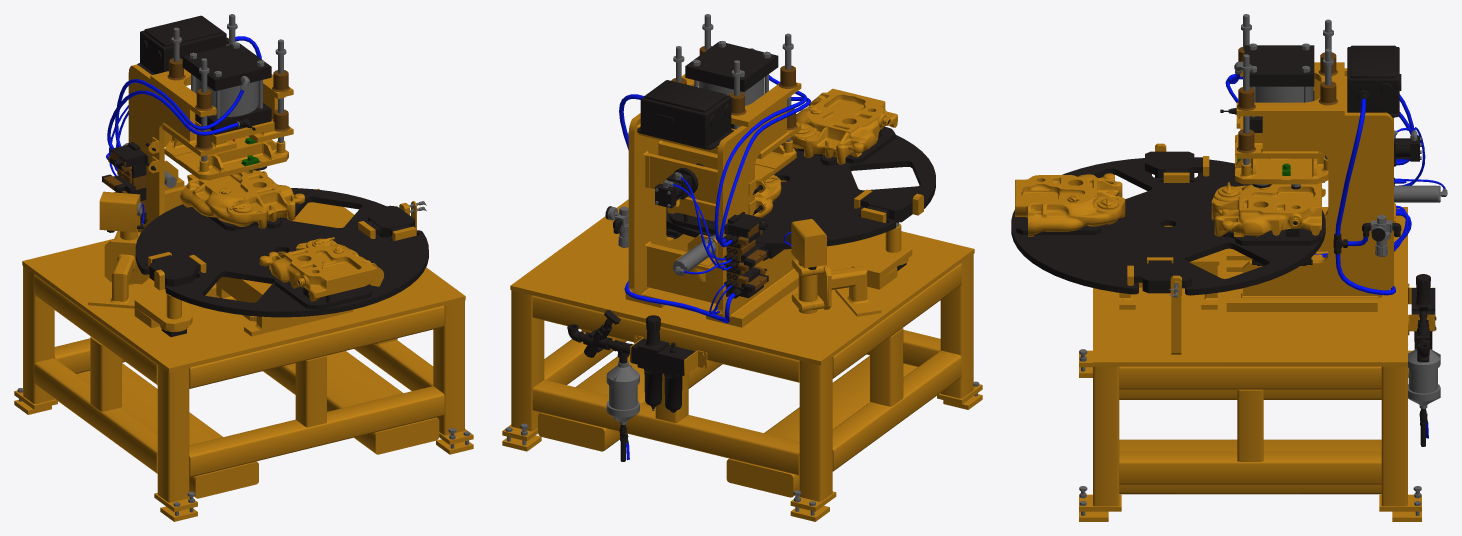
File: 單一加工機.FBX
The picture shows the model from 3 angles, left to right: view 1: azimuth 30°, elevation 25°; view 2: azimuth 150°, elevation 25°; view 3: azimuth 270°, elevation 25°; orthographic projection. The views are drawn at different scales.
Parts seen in each view (by area): view 1: 單一加工機_桌子, 單一加工機_加工機, 單一加工機_圓盤, 單一加工機_工件1, 單一加工機_工件2, 單一加工機_升降台; view 2: 單一加工機_桌子, 單一加工機_加工機, 單一加工機_圓盤, 單一加工機_工件2, 單一加工機_升降台, 單一加工機_工件1; view 3: 單一加工機_桌子, 單一加工機_加工機, 單一加工機_圓盤, 單一加工機_工件2, 單一加工機_工件1, 單一加工機_升降台.
Boxes of the visible parts, box(x1,y1,x2,y2) form: 單一加工機_桌子: box(14, 188, 473, 521); 單一加工機_加工機: box(102, 15, 293, 296); 單一加工機_圓盤: box(135, 188, 428, 317); 單一加工機_工件1: box(180, 170, 304, 228); 單一加工機_工件2: box(259, 237, 384, 301); 單一加工機_升降台: box(164, 14, 288, 180); 單一加工機_桌子: box(502, 133, 982, 521); 單一加工機_加工機: box(605, 41, 810, 327); 單一加工機_圓盤: box(666, 114, 935, 260); 單一加工機_工件2: box(791, 88, 897, 164); 單一加工機_升降台: box(673, 14, 796, 182); 單一加工機_工件1: box(667, 175, 781, 221); 單一加工機_桌子: box(1079, 143, 1440, 521); 單一加工機_加工機: box(1220, 43, 1447, 311); 單一加工機_圓盤: box(1011, 158, 1325, 295); 單一加工機_工件2: box(1015, 173, 1125, 236); 單一加工機_工件1: box(1211, 182, 1321, 237); 單一加工機_升降台: box(1235, 14, 1333, 189).
Size of the model in its own units: 144 by 174 by 169.
